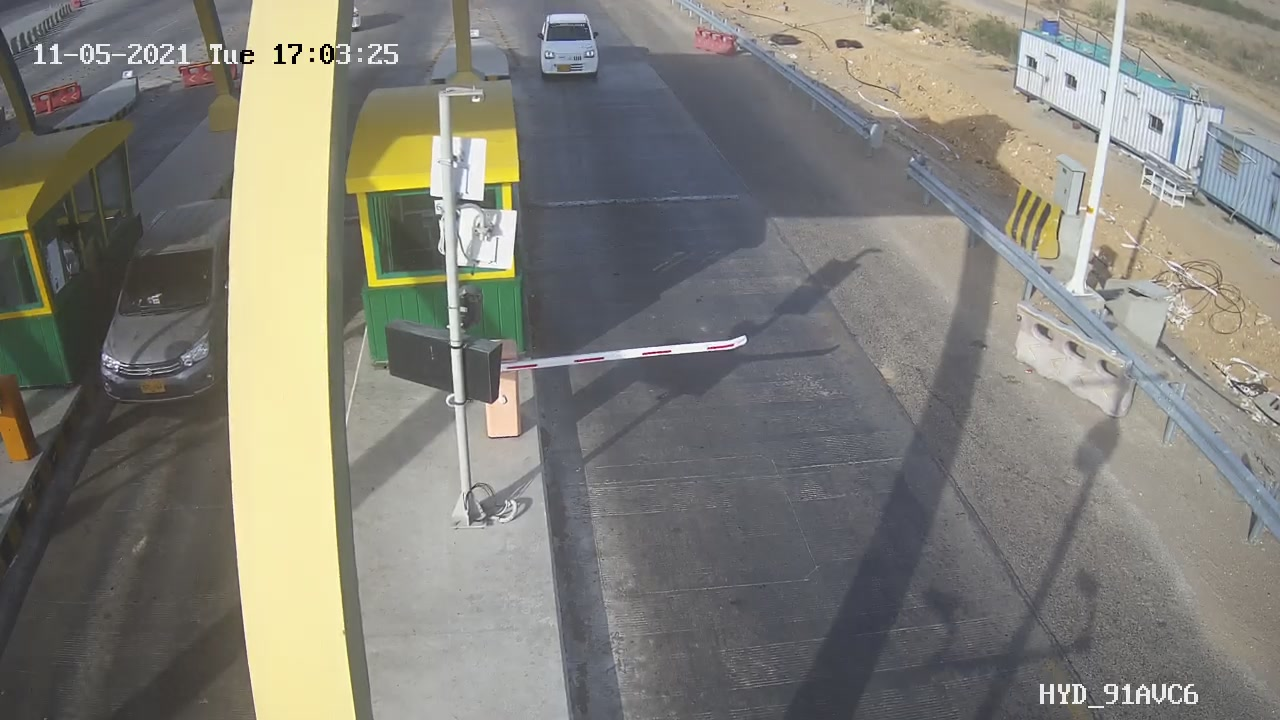F1: (521, 8, 620, 87)
